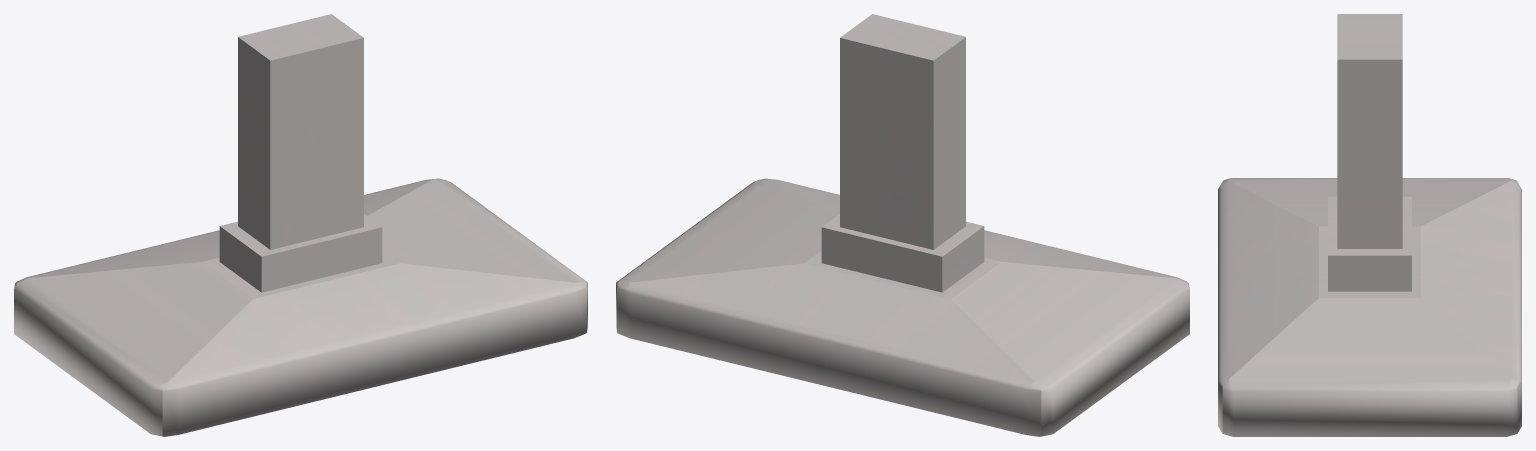
The model's file is luz cinza.fbx.
3 renders of one model, left to right at view 1: azimuth 30°, elevation 25°; view 2: azimuth 150°, elevation 25°; view 3: azimuth 270°, elevation 25°, orthographic.
Parts seen in each view (by area): view 1: Cube.006, Cube.003; view 2: Cube.006, Cube.003; view 3: Cube.006, Cube.003.
Part boxes in pixels (bbox=[...]): Cube.006: bbox=[14, 178, 587, 436]; Cube.003: bbox=[238, 14, 363, 249]; Cube.006: bbox=[616, 178, 1189, 436]; Cube.003: bbox=[840, 14, 965, 249]; Cube.006: bbox=[1218, 178, 1521, 436]; Cube.003: bbox=[1337, 14, 1402, 248].
Bounding box in the file's own units: 203 × 132 × 122.
